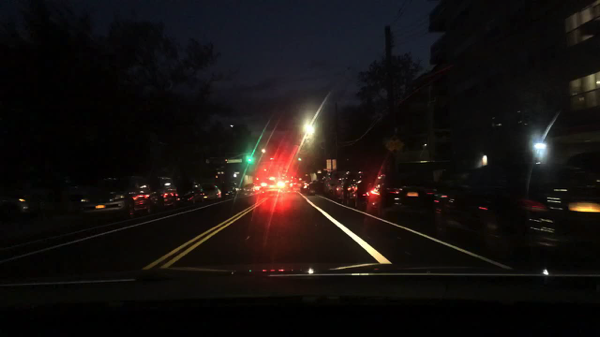car: (484, 159, 599, 261), (426, 163, 506, 236), (363, 156, 450, 222), (74, 174, 159, 223), (341, 169, 384, 210), (148, 175, 182, 211), (0, 194, 31, 224), (174, 179, 206, 208), (321, 172, 351, 199), (199, 181, 222, 205), (214, 182, 242, 201), (258, 176, 287, 193), (301, 180, 323, 196), (242, 184, 257, 195), (254, 185, 262, 194)
person: (289, 180, 294, 190)
traffic light: (247, 156, 253, 163), (224, 157, 228, 165)
traffic sign: (384, 140, 396, 152), (325, 159, 337, 170), (377, 88, 388, 100), (224, 158, 243, 164), (394, 140, 403, 152)
